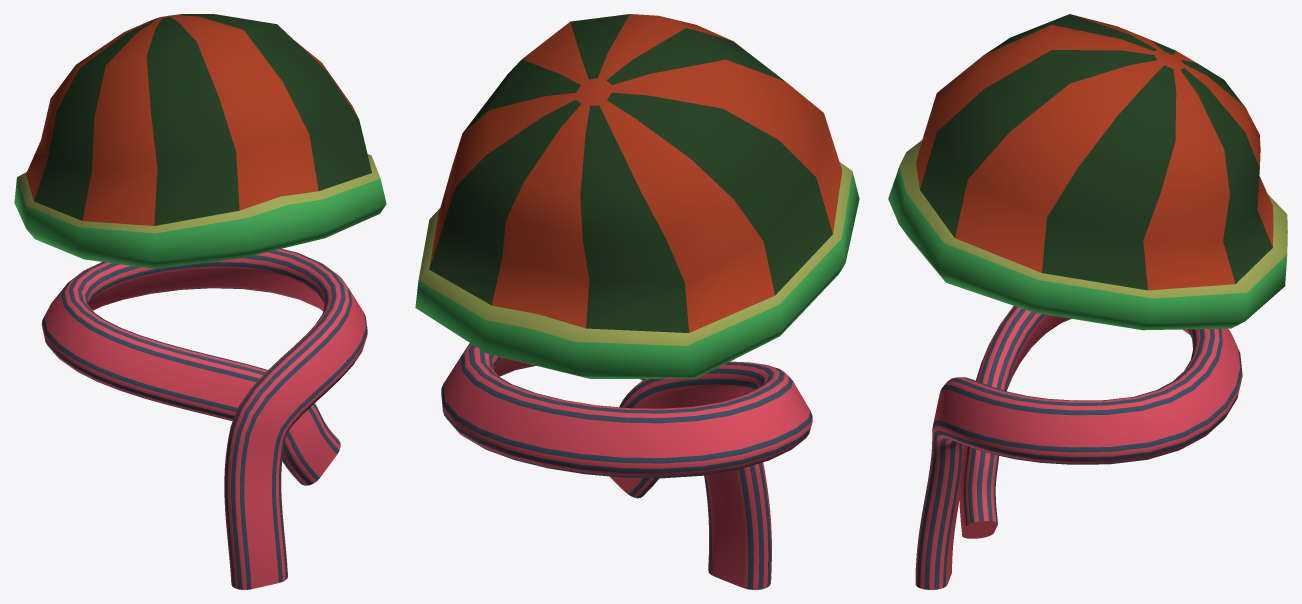
Rendered from Beanie Hat.fbx.
The picture shows the model from 3 angles, left to right: view 1: azimuth 30°, elevation 25°; view 2: azimuth 150°, elevation 25°; view 3: azimuth 270°, elevation 25°; orthographic projection. The views are drawn at different scales.
Parts seen in each view (by area): view 1: Body, Scarf; view 2: Body, Scarf; view 3: Body, Scarf.
Part boxes in pixels (left/top/right/bottom): Body: left=14, top=14, right=386, bottom=268; Scarf: left=41, top=248, right=367, bottom=589; Body: left=415, top=14, right=859, bottom=378; Scarf: left=441, top=343, right=812, bottom=589; Body: left=888, top=14, right=1287, bottom=330; Scarf: left=915, top=306, right=1242, bottom=589.
Bounding box in the file's own units: 46.28 × 75.8 × 49.53.
